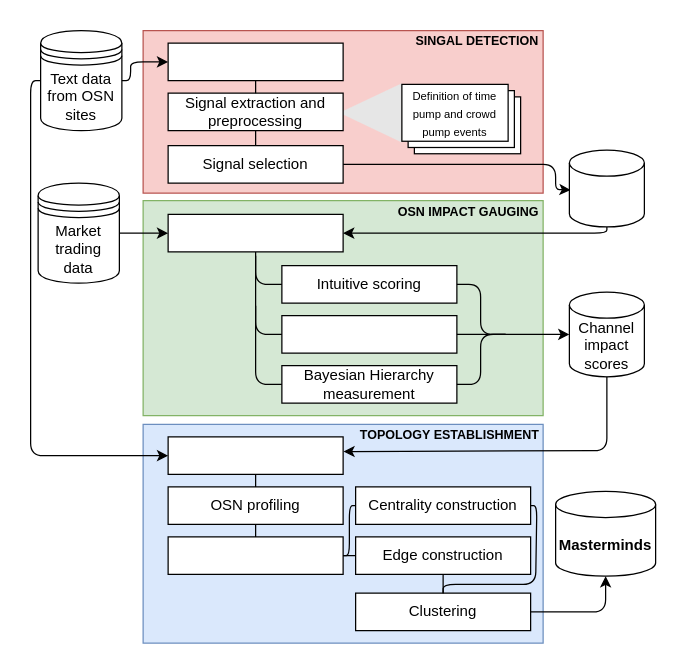
The diagram is 678 pixels wide and 665 high, and some of its shapes have lost their labels. The centre of each missing label's shape, as x and y in pixels:
"Mixed effect measurement" goes at point (369, 333).
"OSN correlation identification and scoring" goes at point (255, 555).
"OSN entity feature engineering" goes at point (255, 455).
"Pump event feature engineering" goes at point (255, 232).
"Pump signals" goes at point (606, 188).
"Signal parsing" goes at point (255, 61).
